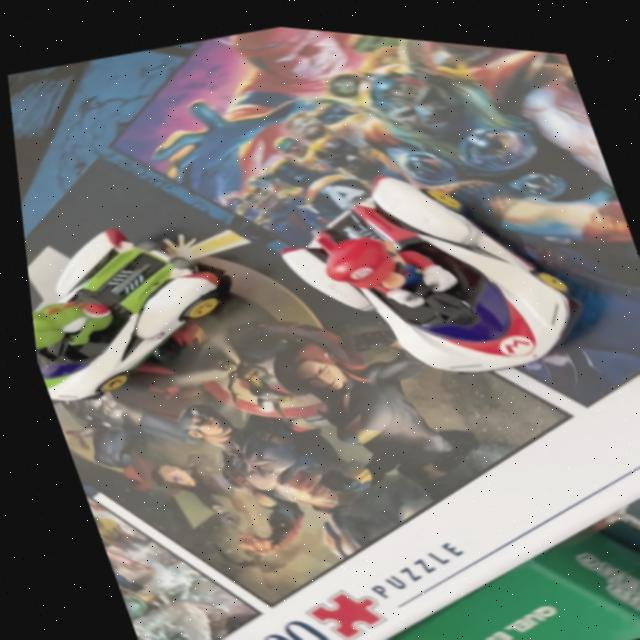mario: (235, 105, 620, 426)
yoshi: (14, 167, 268, 436)
